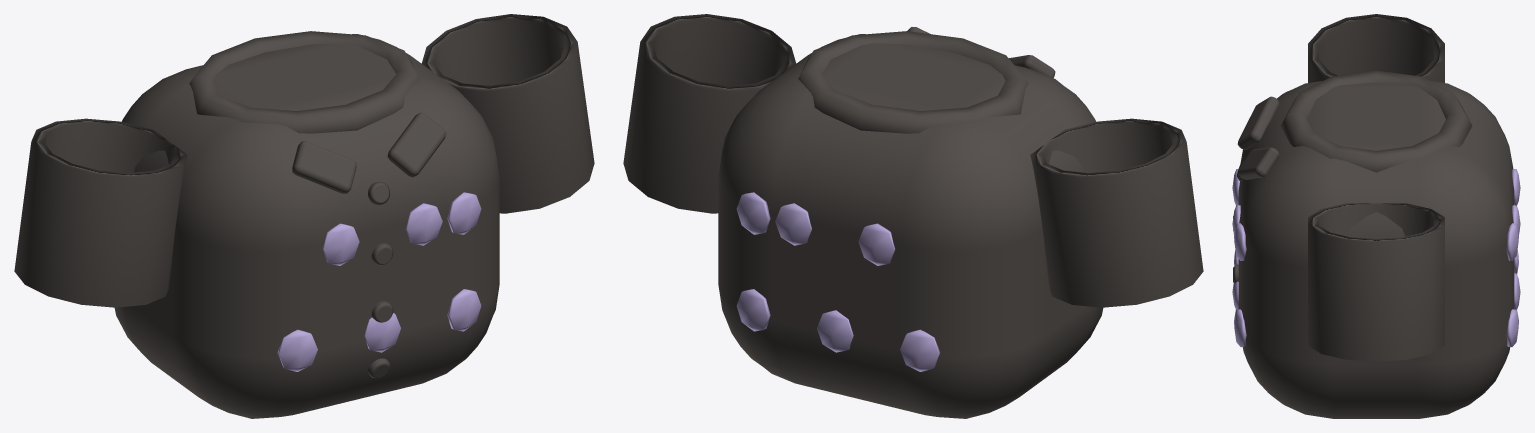
File: bug_aloha_shirt.glb
3 views of the same model, side by side, from view 1: azimuth 30°, elevation 25°; view 2: azimuth 150°, elevation 25°; view 3: azimuth 270°, elevation 25° (orthographic). The views are drawn at different scales.
Visible parts, largest first — view 1: bug_aloha_shirt_Body, bug_aloha_shirt_ArmL, bug_aloha_shirt_ArmR; view 2: bug_aloha_shirt_Body, bug_aloha_shirt_ArmL, bug_aloha_shirt_ArmR; view 3: bug_aloha_shirt_Body, bug_aloha_shirt_ArmR, bug_aloha_shirt_ArmL.
Part boxes in pixels (left/top/right/bottom): bug_aloha_shirt_Body: left=114, top=31, right=499, bottom=418; bug_aloha_shirt_ArmL: left=14, top=118, right=187, bottom=307; bug_aloha_shirt_ArmR: left=421, top=14, right=594, bottom=213; bug_aloha_shirt_Body: left=718, top=27, right=1103, bottom=418; bug_aloha_shirt_ArmL: left=1030, top=118, right=1203, bottom=307; bug_aloha_shirt_ArmR: left=623, top=14, right=796, bottom=213; bug_aloha_shirt_Body: left=1232, top=70, right=1520, bottom=418; bug_aloha_shirt_ArmR: left=1308, top=203, right=1444, bottom=361; bug_aloha_shirt_ArmL: left=1308, top=14, right=1444, bottom=82.
Bounding box in the file's own units: 0.6053 × 0.3119 × 0.3032.
